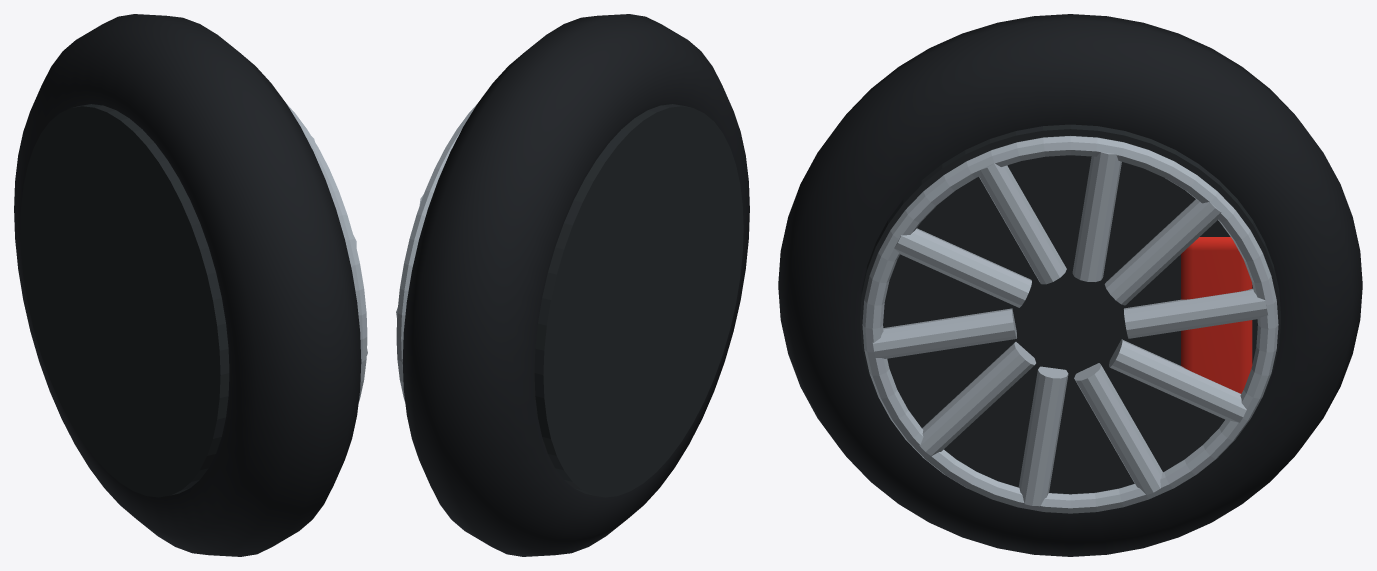
Rendered from wheel.glb.
3 views of the same model, side by side, from view 1: azimuth 30°, elevation 25°; view 2: azimuth 150°, elevation 25°; view 3: azimuth 270°, elevation 25° (orthographic). The views are drawn at different scales.
Visible parts, largest first — view 1: Tire.003, Wheel barrel.003, Torus.007; view 2: Tire.003, Wheel barrel.003, Torus.007; view 3: Tire.003, Wheel barrel.003, Torus.007, Brake caliper.003, Forged spoke.035, Forged spoke.039, Forged spoke.030, Forged spoke.034, Forged spoke.036, Forged spoke.037, Forged spoke.038, Forged spoke.031 (+2 smaller).
Boxes of the visible parts, x1=… form: Tire.003: x1=14, y1=14, x2=361, y2=556; Wheel barrel.003: x1=20, y1=104, x2=229, y2=497; Torus.007: x1=287, y1=104, x2=367, y2=402; Tire.003: x1=402, y1=14, x2=749, y2=556; Wheel barrel.003: x1=534, y1=104, x2=743, y2=497; Torus.007: x1=396, y1=104, x2=476, y2=402; Tire.003: x1=778, y1=14, x2=1362, y2=556; Wheel barrel.003: x1=860, y1=124, x2=1280, y2=494; Torus.007: x1=862, y1=136, x2=1278, y2=513; Brake caliper.003: x1=1181, y1=237, x2=1252, y2=393; Forged spoke.035: x1=873, y1=308, x2=1016, y2=358; Forged spoke.039: x1=1109, y1=339, x2=1246, y2=422; Forged spoke.030: x1=1124, y1=288, x2=1267, y2=338; Forged spoke.034: x1=894, y1=228, x2=1031, y2=307; Forged spoke.036: x1=919, y1=342, x2=1035, y2=456; Forged spoke.037: x1=1018, y1=366, x2=1068, y2=506; Forged spoke.038: x1=1074, y1=363, x2=1162, y2=494; Forged spoke.031: x1=1104, y1=199, x2=1221, y2=305.
Size of the model in its own units: 0.218 by 0.68 by 0.68.
